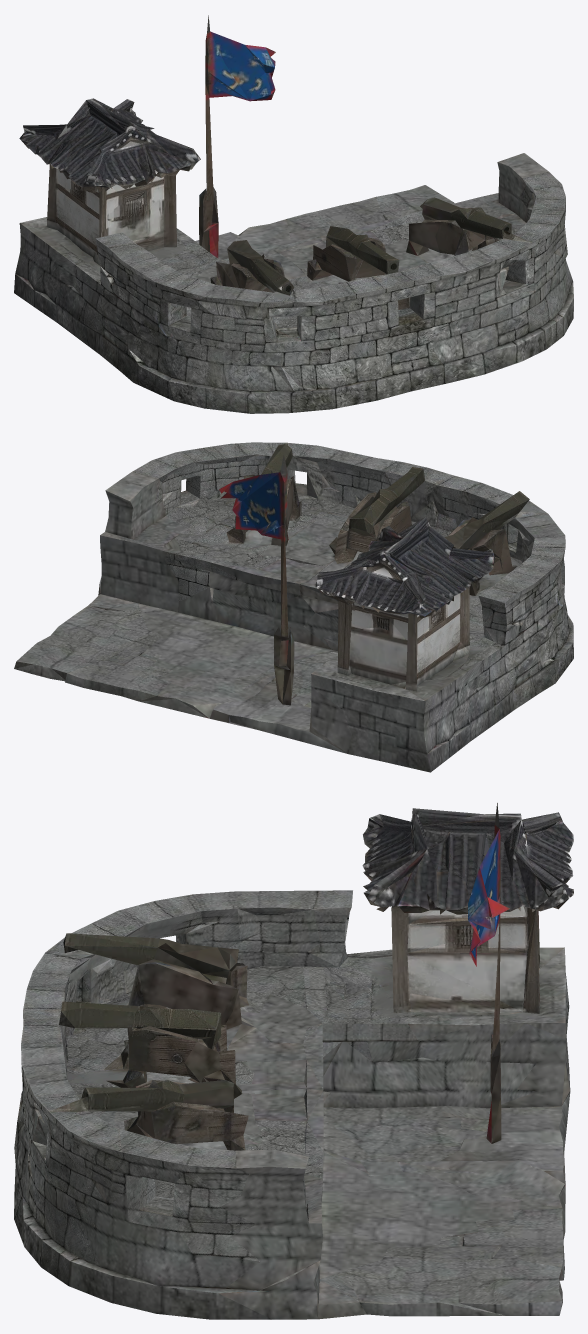
The model's file is battery.glb.
3 views of the same model, one above another, from view 1: azimuth 30°, elevation 25°; view 2: azimuth 150°, elevation 25°; view 3: azimuth 270°, elevation 25° (orthographic). The views are drawn at different scales.
Visible parts, largest first — view 1: Mesh_0; view 2: Mesh_0; view 3: Mesh_0.
Part boxes in pixels (x1=…): Mesh_0: x1=14, y1=15, x2=573, y2=413; Mesh_0: x1=14, y1=442, x2=573, y2=772; Mesh_0: x1=14, y1=803, x2=573, y2=1319.
Size of the model in its own units: 1.89 by 1.1 by 1.59.
Materials: 1 (1 with a texture image).
